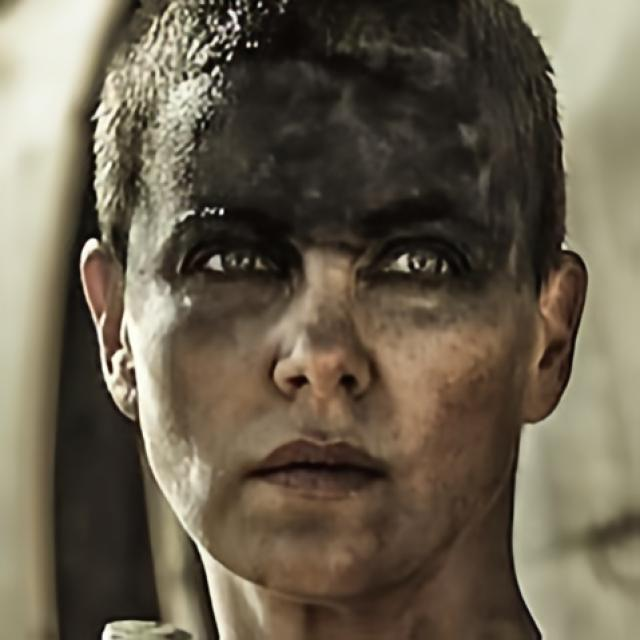anger: (149, 99, 526, 606)
